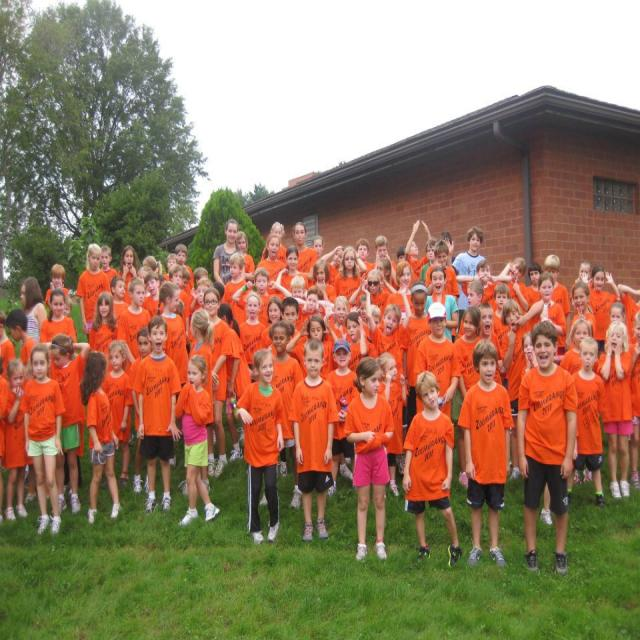body: (512, 316, 580, 575), (454, 337, 515, 567), (400, 368, 463, 571), (341, 354, 395, 562), (287, 335, 340, 544), (231, 349, 284, 543), (136, 316, 183, 516), (19, 341, 66, 537), (41, 334, 91, 516), (497, 298, 545, 481), (258, 320, 304, 507), (173, 354, 221, 527), (77, 347, 122, 526), (520, 331, 556, 526), (596, 318, 634, 500), (566, 336, 605, 507), (4, 307, 37, 503), (202, 287, 234, 479), (412, 299, 460, 424), (360, 281, 411, 398), (451, 306, 483, 489), (324, 339, 358, 497), (399, 280, 433, 434), (98, 337, 132, 489), (187, 306, 217, 476), (128, 326, 158, 495), (375, 353, 408, 498), (216, 303, 245, 463), (452, 226, 489, 336), (3, 358, 27, 520), (74, 242, 112, 344), (204, 285, 229, 440), (232, 267, 294, 329), (578, 264, 620, 352), (286, 312, 340, 380), (156, 281, 190, 387), (348, 268, 398, 332), (116, 276, 152, 362), (236, 289, 268, 383), (87, 290, 123, 372), (423, 266, 460, 344), (543, 254, 571, 356), (454, 256, 512, 305), (39, 286, 78, 352), (625, 310, 639, 492), (219, 250, 251, 329), (474, 302, 504, 385), (559, 318, 600, 376), (19, 276, 50, 352), (404, 218, 434, 290), (292, 284, 335, 334), (273, 244, 310, 302), (425, 240, 460, 300), (270, 297, 305, 357), (338, 311, 371, 374), (212, 218, 240, 290), (385, 258, 416, 322), (333, 246, 364, 310), (364, 234, 398, 292), (291, 220, 318, 292), (495, 257, 530, 312), (458, 279, 486, 339), (255, 234, 287, 285), (116, 244, 142, 304), (45, 262, 72, 318), (616, 283, 640, 345), (0, 352, 8, 522), (569, 258, 594, 312), (315, 245, 347, 287), (259, 296, 283, 352), (140, 271, 166, 320), (261, 221, 288, 264), (235, 230, 256, 284), (312, 259, 337, 304), (0, 310, 16, 380), (289, 275, 309, 329), (187, 266, 209, 314), (526, 262, 543, 324), (174, 242, 195, 292), (330, 295, 352, 341), (492, 282, 510, 338), (109, 277, 131, 322), (419, 236, 440, 282), (355, 236, 374, 280), (357, 294, 374, 342), (434, 229, 456, 265), (168, 263, 187, 303), (194, 277, 215, 311), (101, 244, 118, 286), (374, 258, 393, 288), (136, 265, 153, 298), (365, 304, 382, 335), (142, 254, 164, 276), (163, 252, 178, 282), (179, 265, 192, 296), (608, 302, 626, 324), (311, 234, 325, 260), (172, 298, 185, 319), (63, 294, 74, 318), (396, 245, 406, 264), (157, 272, 167, 284)
